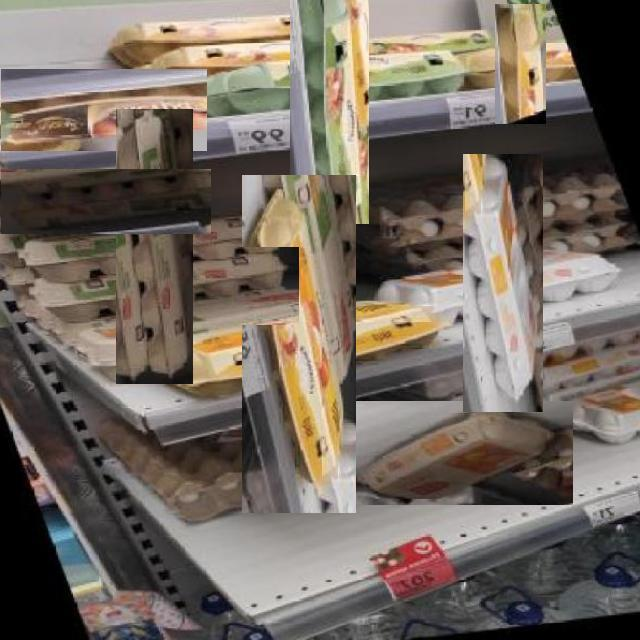Egg: (241, 175, 356, 513), (333, 401, 573, 505), (115, 110, 193, 384), (26, 248, 299, 325), (463, 154, 543, 412), (289, 0, 369, 224), (0, 69, 207, 151), (0, 169, 211, 234), (494, 4, 546, 124)
